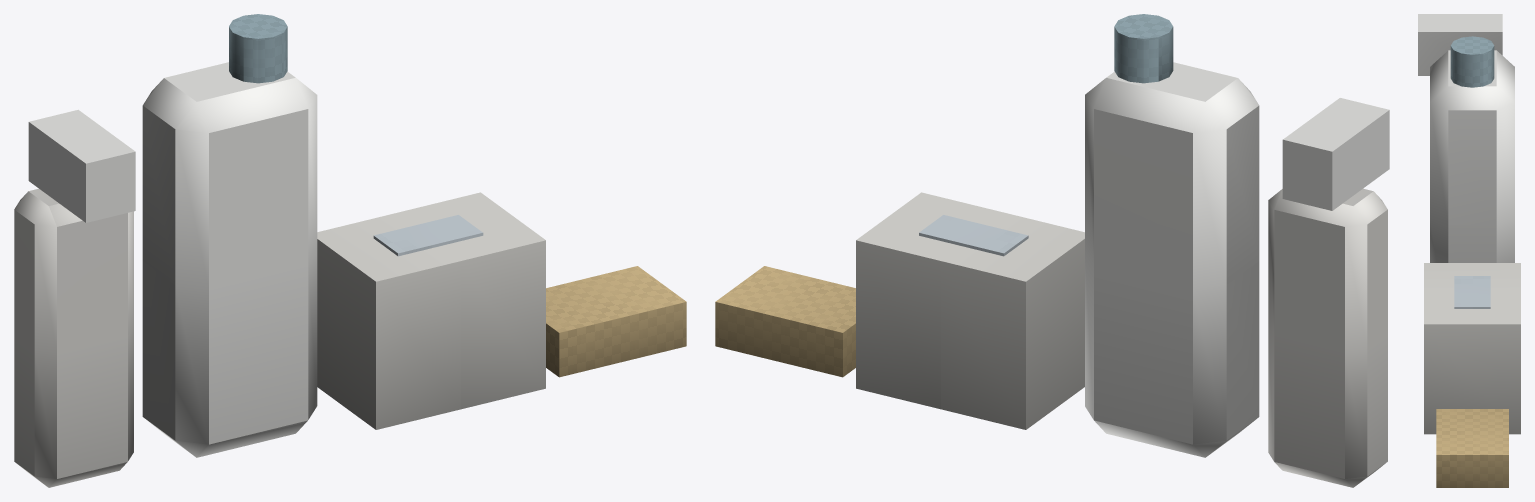
The model's file is cleaning_row.glb.
The picture shows the model from 3 angles, left to right: view 1: azimuth 30°, elevation 25°; view 2: azimuth 150°, elevation 25°; view 3: azimuth 270°, elevation 25°; orthographic projection. The views are drawn at different scales.
Parts seen in each view (by area): view 1: body; view 2: body; view 3: body.
Boxes of the visible parts, bbox=[...] form: body: bbox=[14, 14, 686, 487]; body: bbox=[715, 14, 1389, 487]; body: bbox=[1418, 14, 1520, 487].
Size of what is drawn, in the model's own units: 0.45 by 0.27 by 0.085.
6 materials, 3 textured.
